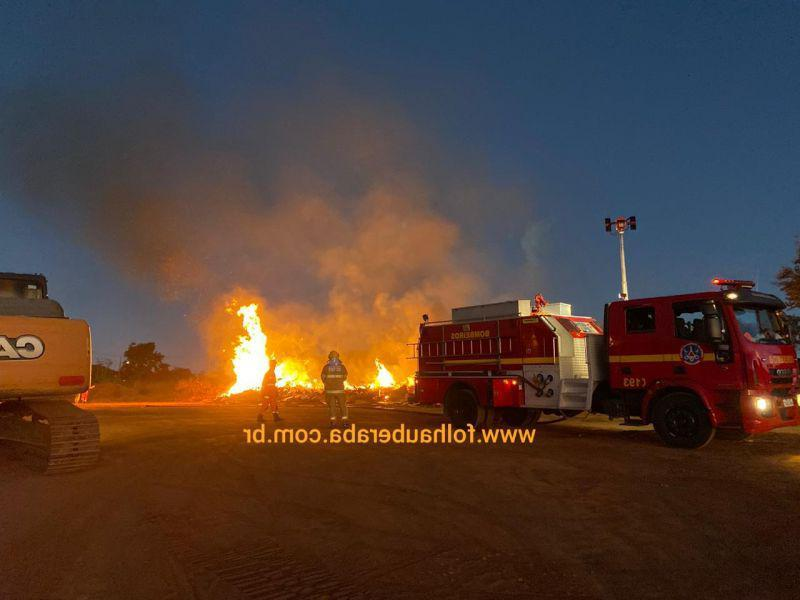Fire: (217, 297, 310, 399), (366, 358, 397, 390), (344, 383, 354, 394)
